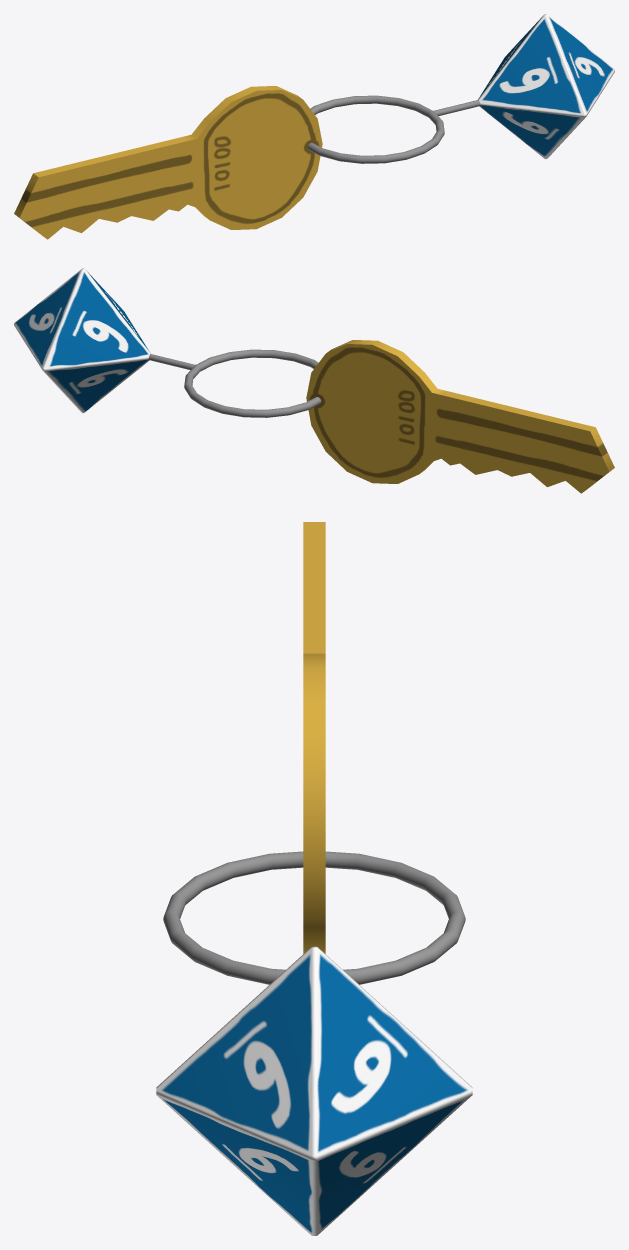
Rendered from KeyChain.fbx.
The picture shows the model from 3 angles, top to bottom: view 1: azimuth 30°, elevation 25°; view 2: azimuth 150°, elevation 25°; view 3: azimuth 270°, elevation 25°; orthographic projection. The views are drawn at different scales.
Parts seen in each view (by area): view 1: Key, Die, KeyRing, Chain; view 2: Key, Die, KeyRing, Chain; view 3: Die, Key, KeyRing.
Boxes of the visible parts, <box> form: Key: <box>14,86,322,239</box>; Die: <box>478,14,614,159</box>; KeyRing: <box>307,95,444,163</box>; Chain: <box>433,100,480,115</box>; Key: <box>306,340,614,493</box>; Die: <box>14,268,150,413</box>; KeyRing: <box>184,349,321,417</box>; Chain: <box>148,354,195,369</box>; Die: <box>156,946,472,1235</box>; Key: <box>303,522,325,953</box>; KeyRing: <box>163,851,465,984</box>.
Bounding box in the file's own units: 2.73 × 0.6264 × 0.6264.
Materials: 3 (2 with a texture image).
